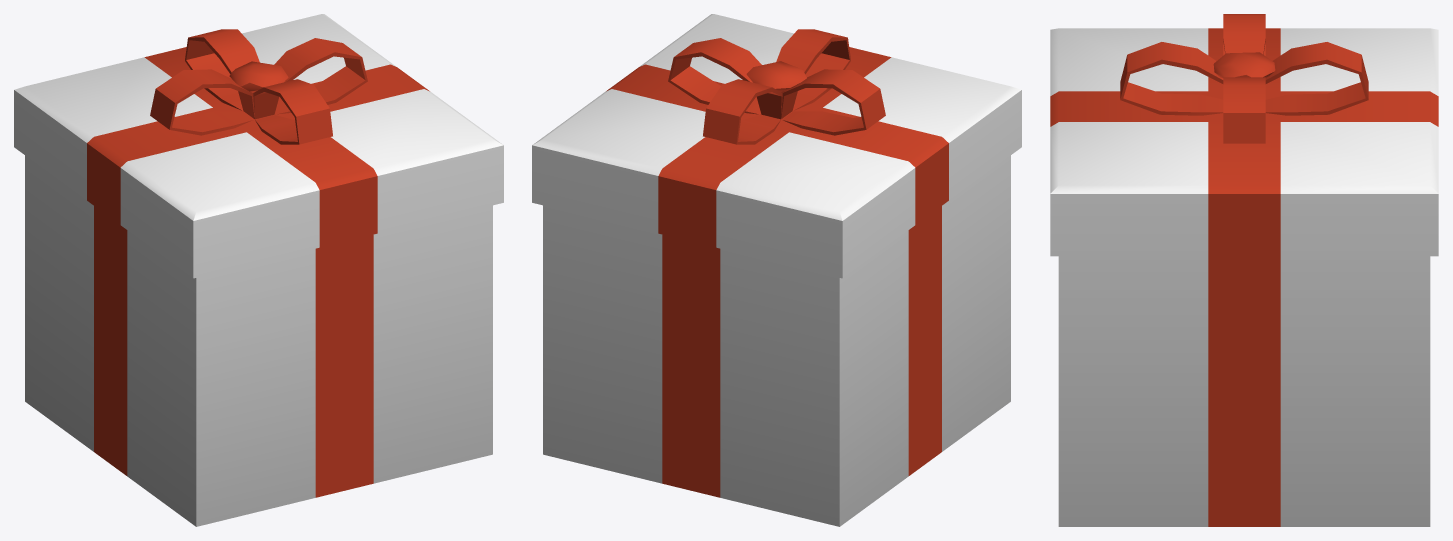
Rendered from GiftBox_01.glb.
3 renders of one model, left to right at view 1: azimuth 30°, elevation 25°; view 2: azimuth 150°, elevation 25°; view 3: azimuth 270°, elevation 25°, orthographic. The views are drawn at different scales.
Parts seen in each view (by area): view 1: GiftBox_01; view 2: GiftBox_01; view 3: GiftBox_01.
Boxes of the visible parts, <box> form: GiftBox_01: <box>14,14,503,526</box>; GiftBox_01: <box>532,14,1021,526</box>; GiftBox_01: <box>1050,14,1438,526</box>.
Bounding box in the file's own units: 0.4996 × 0.5642 × 0.4996.
Materials: 1 (1 with a texture image).
